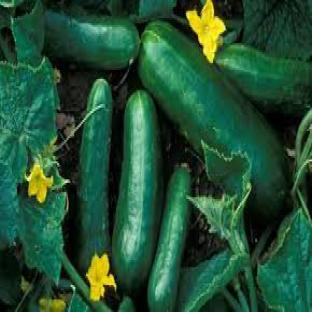Cucumber: (139, 22, 288, 220), (112, 92, 163, 294), (216, 44, 311, 116), (77, 79, 111, 274), (148, 169, 190, 311), (46, 9, 139, 69), (119, 296, 135, 311)
